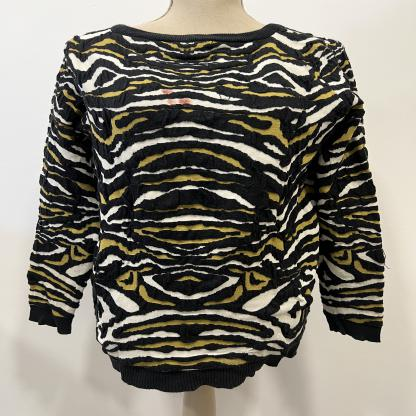stain: (176, 97, 194, 107), (158, 88, 177, 97), (165, 97, 178, 108)
